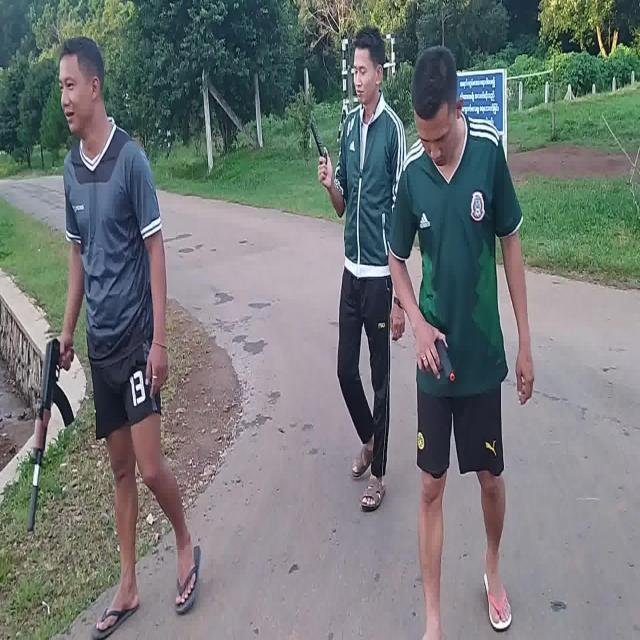gun: (29, 339, 75, 533), (435, 341, 455, 381)
